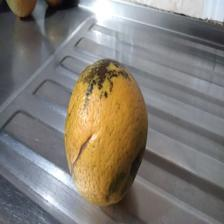Mango Semifresh: (66, 58, 148, 204)
